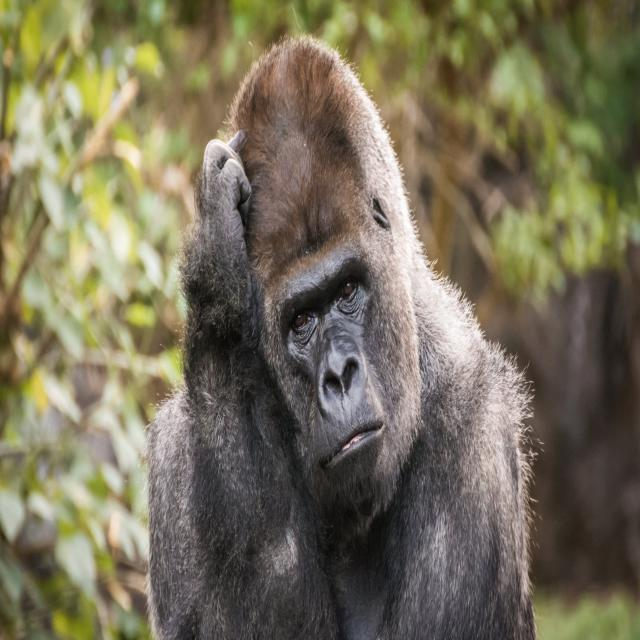Gorilla: (138, 20, 546, 638)
